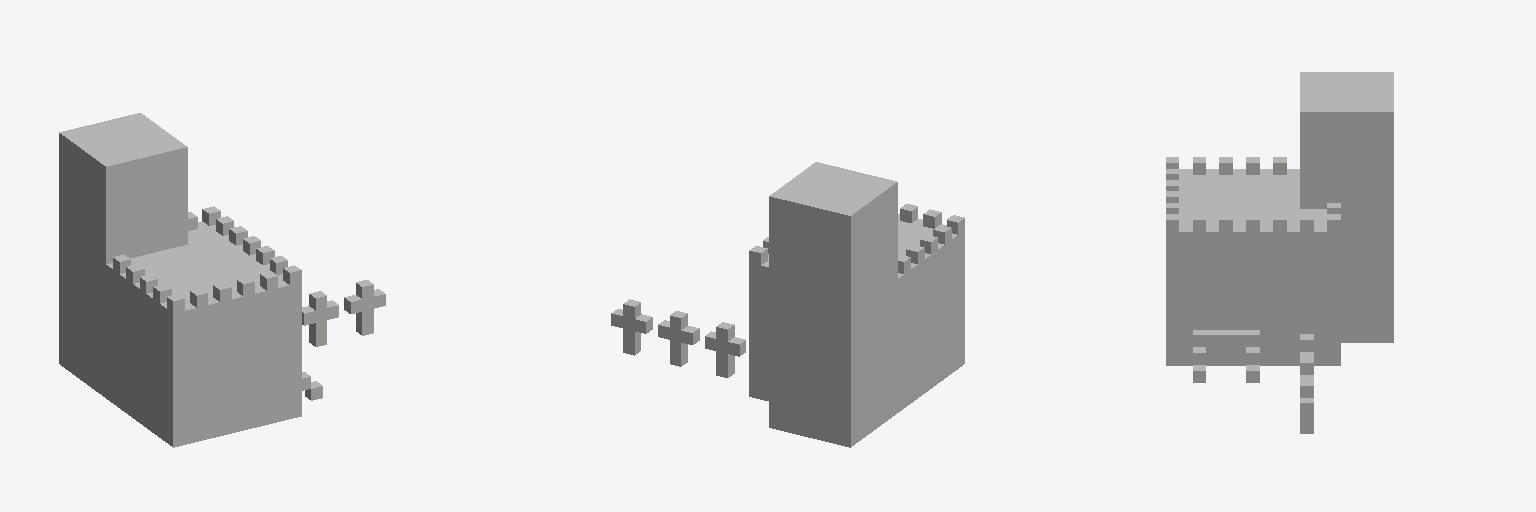
File: House.obj
3 views of the same model, side by side, from view 1: azimuth 30°, elevation 25°; view 2: azimuth 150°, elevation 25°; view 3: azimuth 270°, elevation 25° (orthographic).
Visible parts, largest first — view 1: House; view 2: House; view 3: House.
Part boxes in pixels (x1,y1,x2,y2): House: (59,113,385,447); House: (611,162,964,447); House: (1166,72,1393,433).
Size of the model in its own units: 2.4 by 1.9 by 1.7.